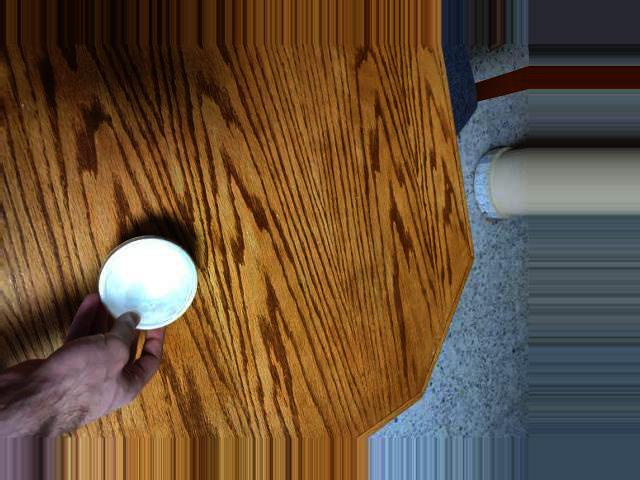cotage: (90, 229, 204, 342)
